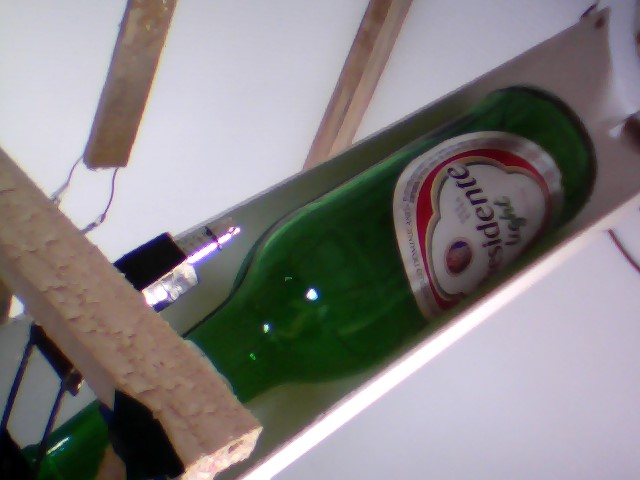vidrio: (166, 78, 603, 404)
